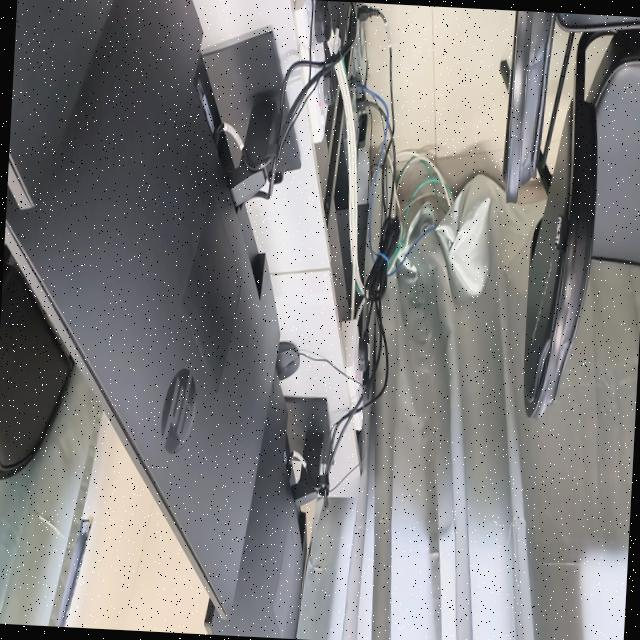Chair: (523, 29, 640, 417), (502, 10, 640, 201), (0, 246, 73, 478)
Monitor: (5, 0, 300, 616), (204, 372, 329, 639), (7, 0, 112, 208)
Mouse: (275, 342, 299, 380)
